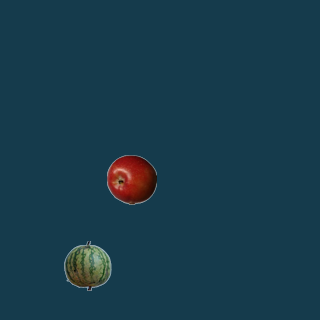Apple Braeburn: (106, 154, 156, 204)
Watermelon: (62, 240, 112, 290)
